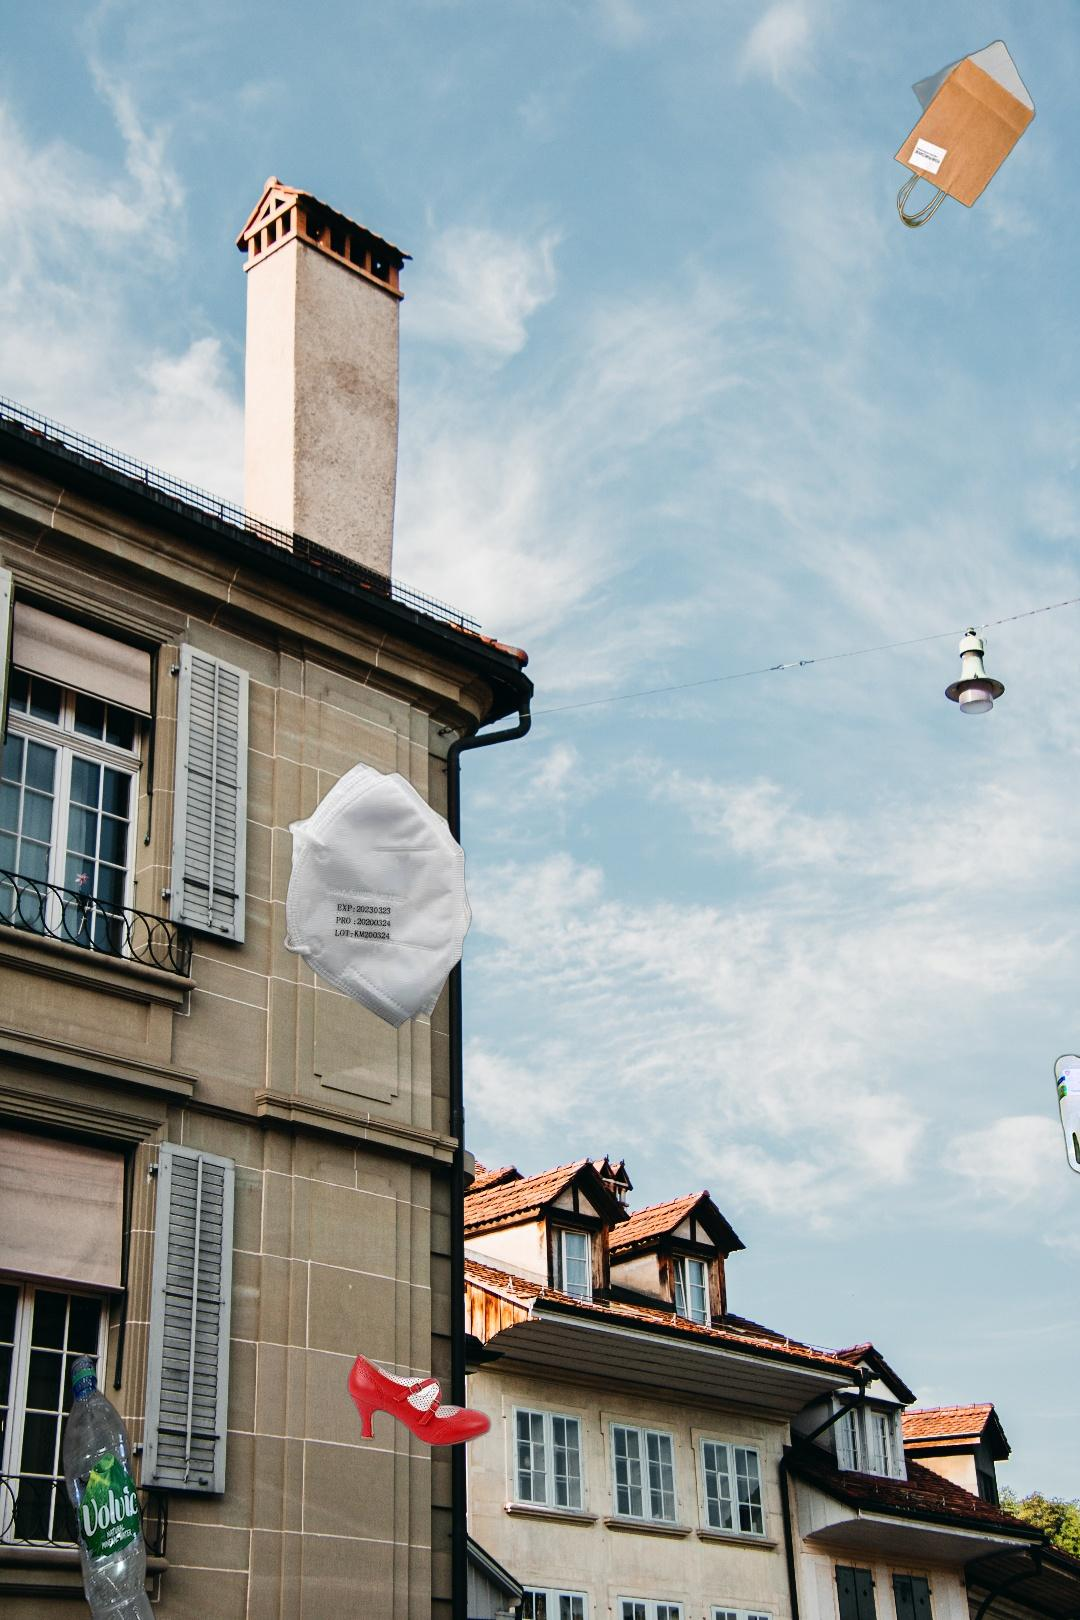paper-bag: (891, 39, 1038, 230)
plastic-bottles: (976, 702, 1080, 1190), (59, 1350, 177, 1620)
shoes: (344, 1352, 494, 1449)
trash: (284, 761, 472, 1029)
